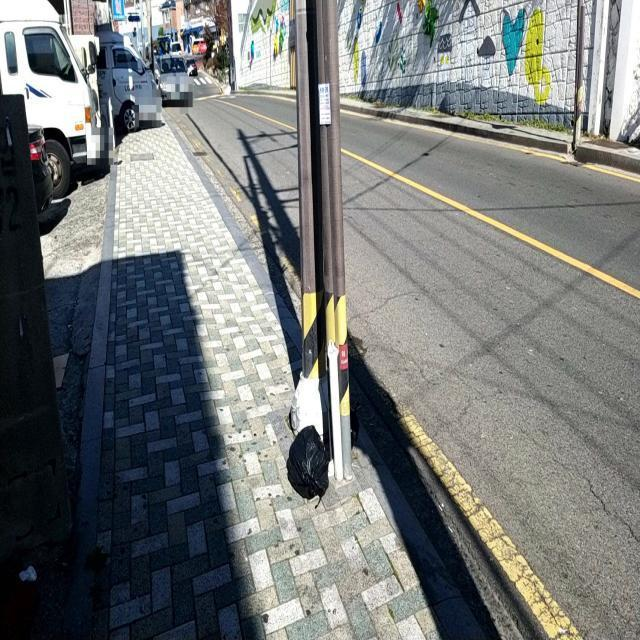Trashbag: (279, 426, 336, 500)
